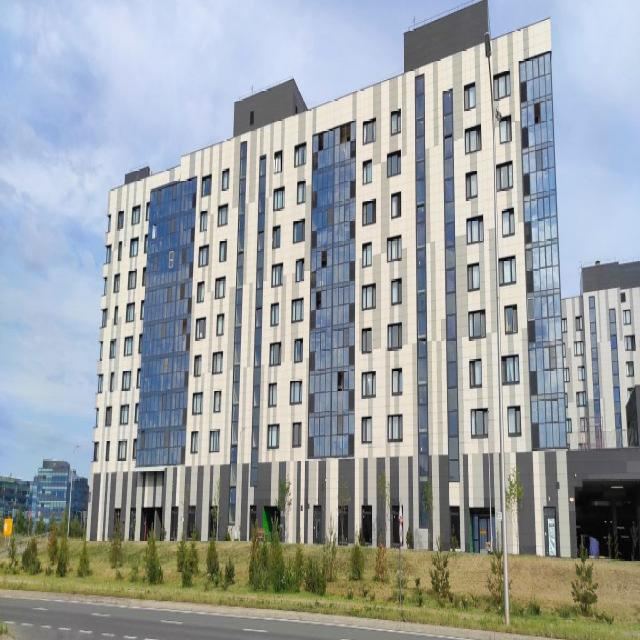Building: (86, 0, 572, 561)
